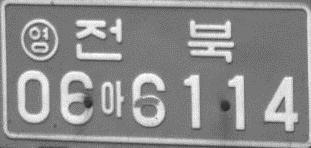0: (15, 69, 50, 125)
1: (173, 72, 211, 129), (219, 74, 257, 130)
4: (264, 75, 298, 132)
6: (58, 70, 94, 125), (131, 71, 165, 127)
아: (99, 79, 124, 118)
영: (20, 18, 58, 61)
전북_D: (74, 18, 234, 63)
